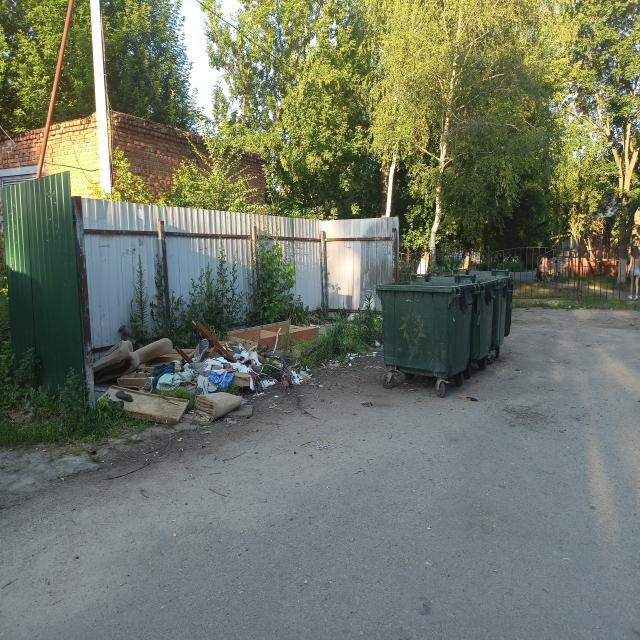bin: (374, 265, 515, 392)
trash: (92, 311, 324, 427)
